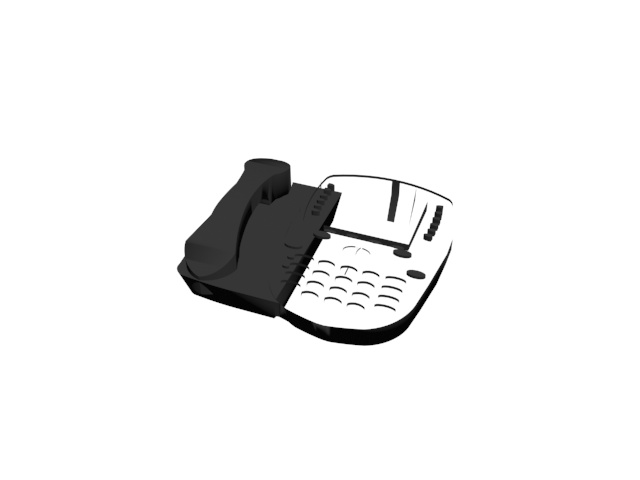phone: (177, 153, 456, 352)
